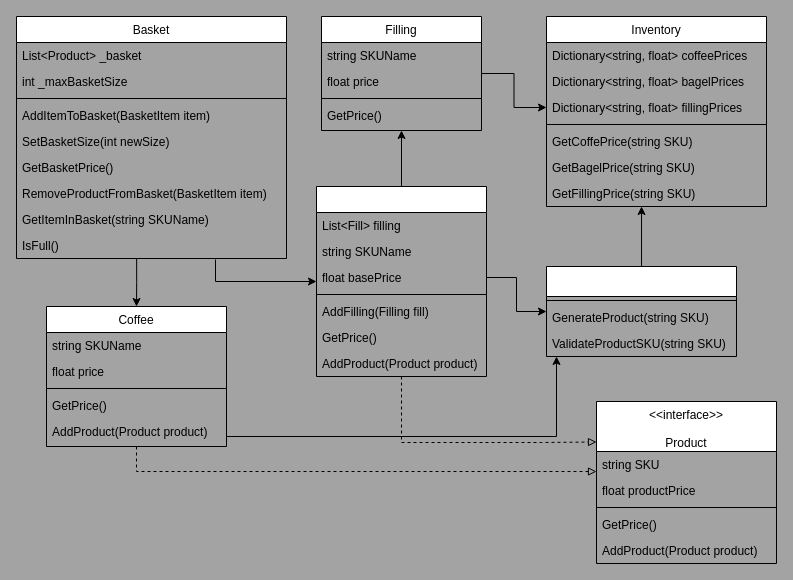
Image size: 793x580. Some labels were removed from this diagram. Each missing label, with the box of its shape:
Bagel: (316, 186, 486, 376)
ProductFactory: (546, 266, 736, 356)
